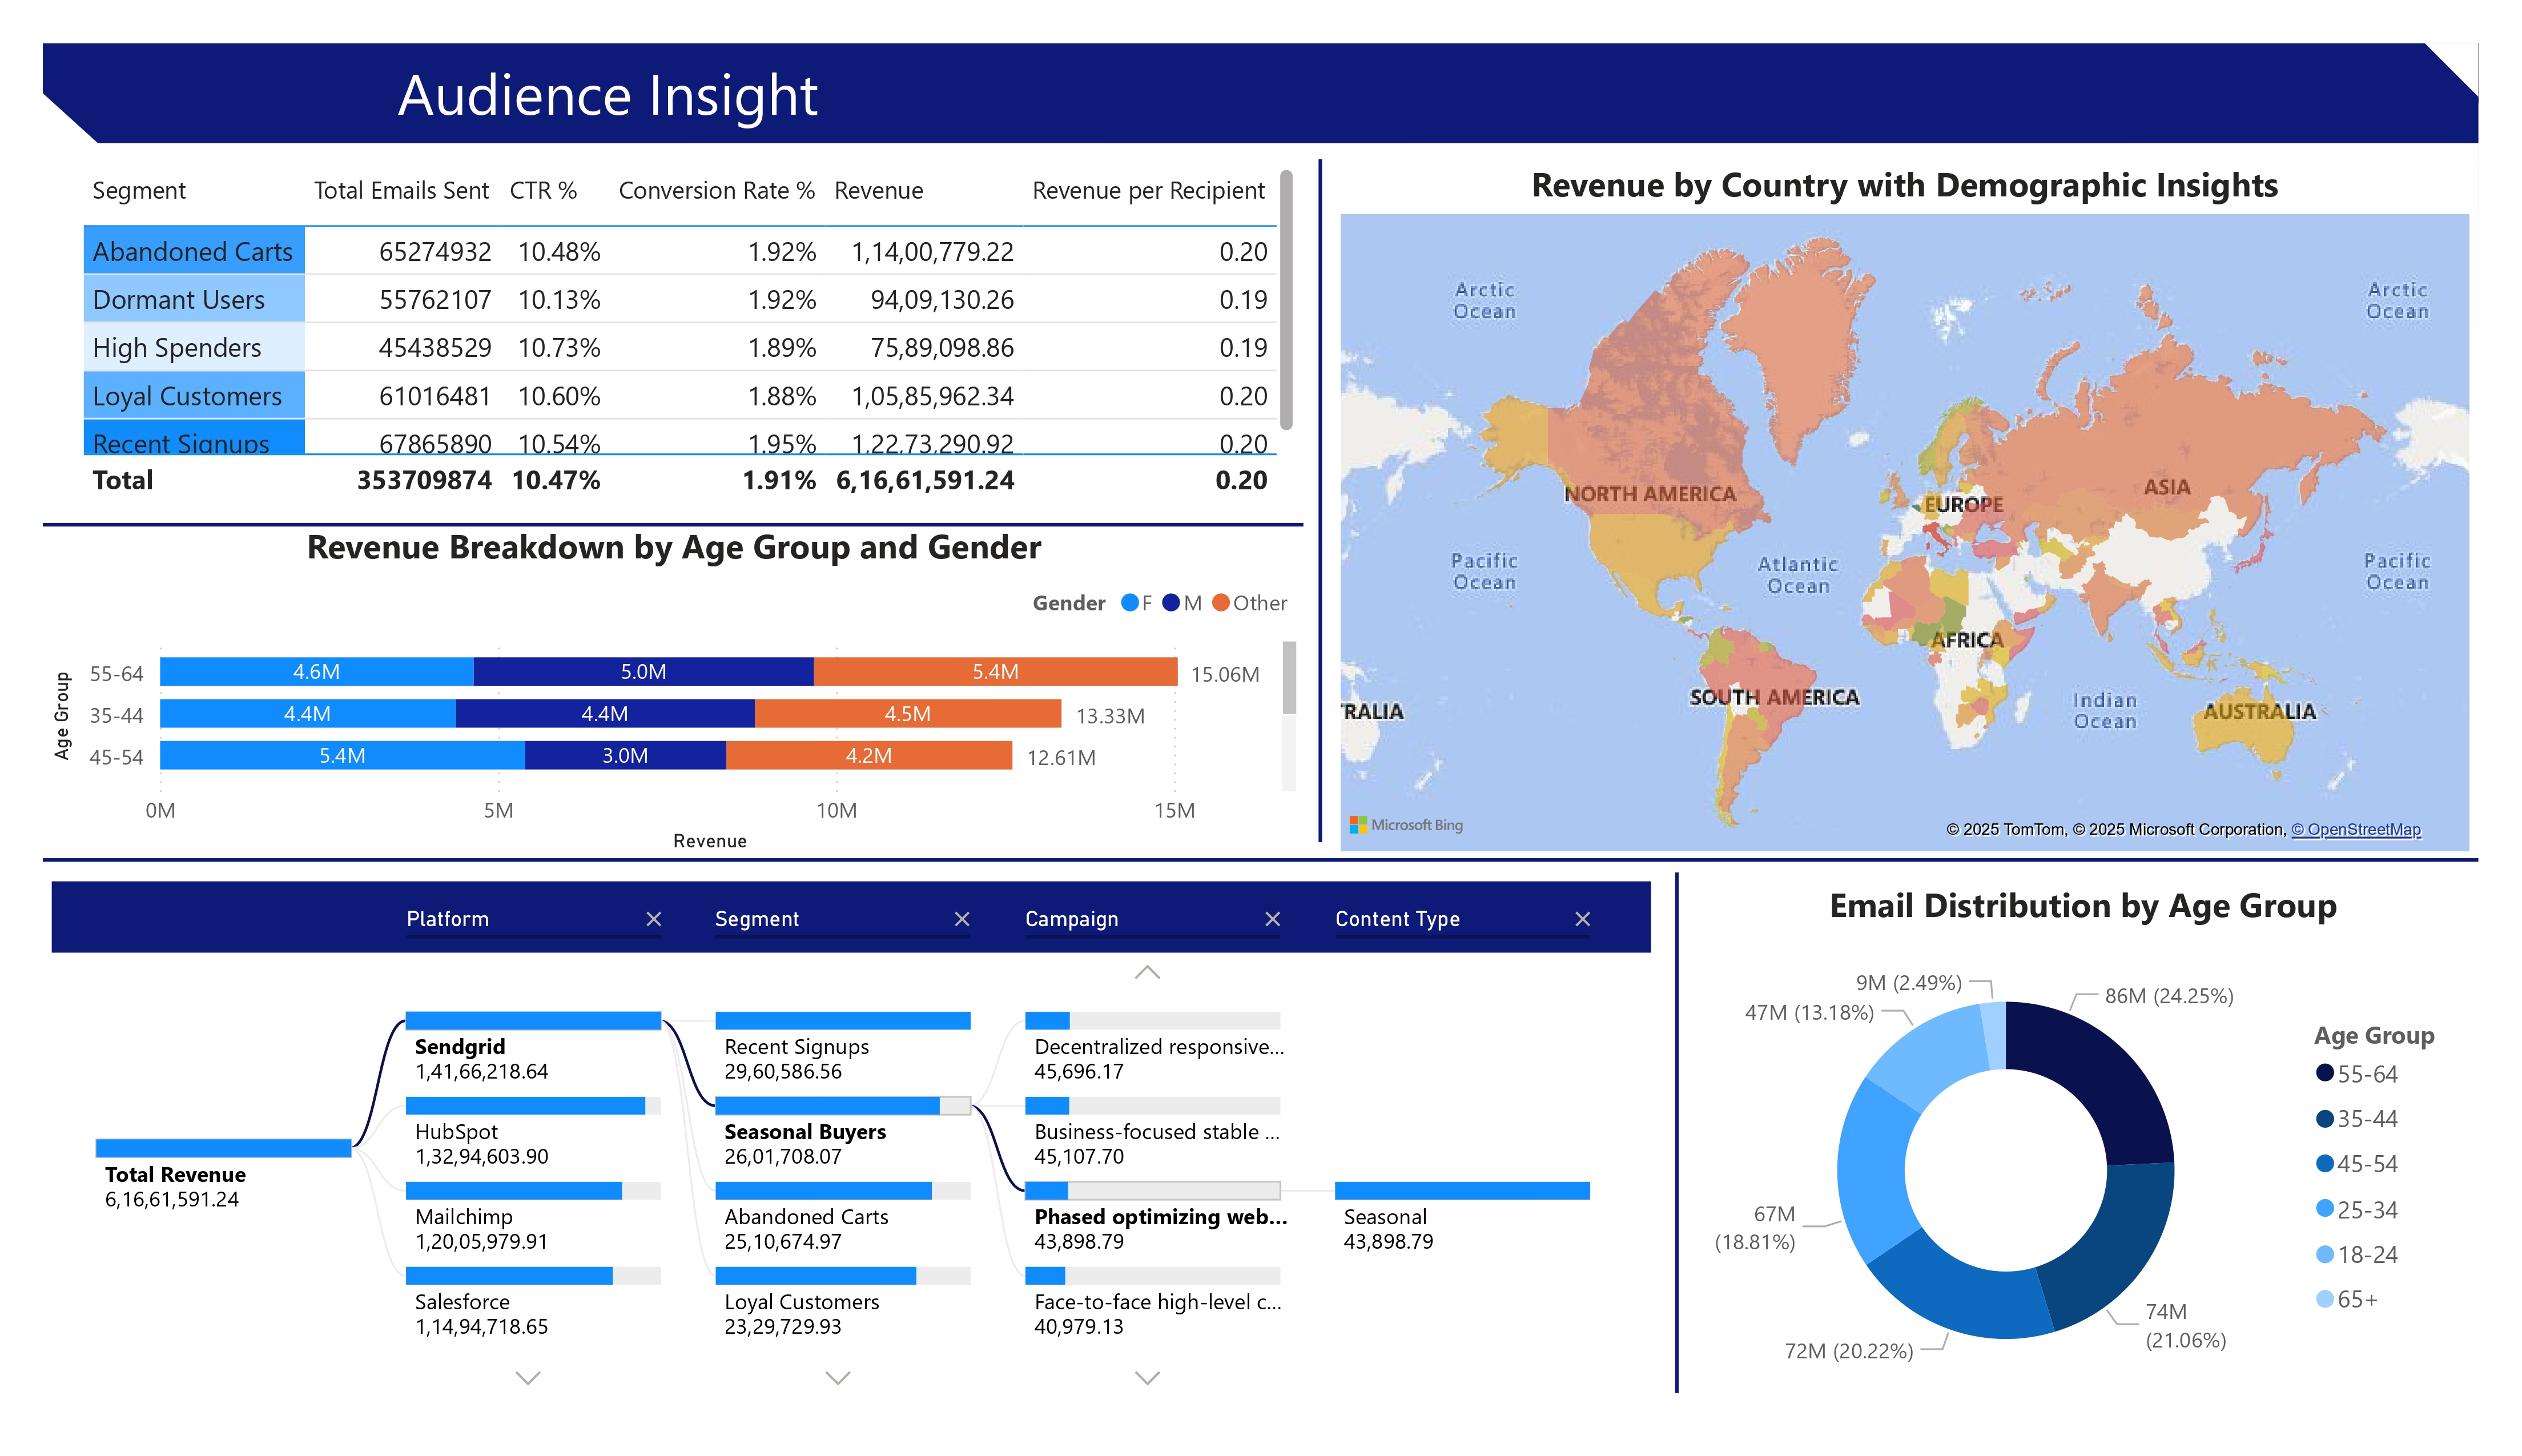

This screenshot's page, from the dashboard's own definition file:
{"tool":"powerbi","page":{"name":"Audience Insights","canvas":[1366,768],"ordinal":2},"visuals":[{"type":"shape","box":[0,0,1365.7,55.7],"z":0,"group":"g1"},{"type":"tableEx","fields":{"Values":["Dim_Audience.Segment_Name","_Measures.Total Emails Sent","_Measures.CTR %","_Measures.Conversion Rate %","_Measures.Total Revenue","_Measures.Revenue per Recipient"]},"box":[16.7,65,690,196.7],"z":0},{"type":"shape","box":[1336.4,0,29.5,29.5],"z":1000,"group":"g1"},{"type":"decompositionTreeVisual","fields":{"Analyze":["_Measures.Total Revenue"],"ExplainBy":["Dim_Campaigns.Platform","Dim_Audience.Segment_Name","Dim_Campaigns.Campaign_Name","Dim_Campaigns.Content_Type"]},"box":[0,470,907.1,298.6],"z":1000},{"type":"donutChart","title":"Email Distribution by Age Group","fields":{"Category":["Dim_Audience.Age Group"],"Y":["_Measures.Total Emails Sent"]},"box":[922.9,470,442.9,298.6],"z":2000},{"type":"shape","box":[0,27.5,32,29.8],"z":3000,"group":"g1"},{"type":"barChart","title":"Revenue Breakdown by Age Group and Gender","fields":{"Category":["Dim_Audience.Age Group"],"Series":["Dim_Audience.Gender"],"Y":["_Measures.Total Revenue"]},"box":[0,269.4,707.5,188.1],"z":3000},{"type":"filledMap","title":"Revenue by Country with Demographic Insights","fields":{"Category":["Dim_Audience.Country"]},"box":[722.5,66.2,643.8,391.2],"z":4000},{"type":"textbox","box":[194.4,0,300.8,55],"z":5000},{"type":"textbox","box":[194.3,0,378.6,55.7],"z":6000,"group":"g1"},{"type":"shape","box":[910,465,13.3,291.7],"z":6000},{"type":"shape","box":[0,451.2,1366.2,13.8],"z":7000},{"type":"shape","box":[710,65,12.5,382.5],"z":8000},{"type":"shape","box":[0,263.3,706.7,13.3],"z":9000},{"type":"group","id":"g1","title":"Group 1","box":[0,0,1365.9,57.2],"z":10000}]}

Visuals, with their boxes in screenshot pixels (x1, y1, x2, y2):
shape: 43, 43, 2479, 142
tableEx - Dim_Audience.Segment_Name x _Measures.Total Emails Sent: 73, 159, 1304, 510
shape: 2427, 43, 2479, 95
decompositionTreeVisual - _Measures.Total Revenue x Dim_Campaigns.Platform: 43, 882, 1661, 1413
"Email Distribution by Age Group" donutChart: 1689, 882, 2479, 1413
shape: 43, 92, 100, 145
"Revenue Breakdown by Age Group and Gender" barChart: 43, 524, 1305, 859
"Revenue by Country with Demographic Insights" filledMap: 1332, 161, 2479, 859
textbox: 389, 43, 926, 141
textbox: 389, 43, 1065, 142
shape: 1666, 872, 1690, 1393
shape: 43, 848, 2479, 872
shape: 1309, 159, 1332, 841
shape: 43, 513, 1304, 536
"Group 1" group: 43, 43, 2479, 145
